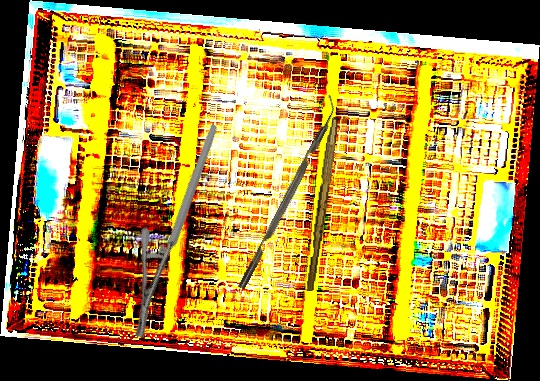Chopper: (229, 94, 344, 290)
Needle Holder: (78, 123, 277, 341)
Scalpel Handle: (305, 115, 339, 293)
